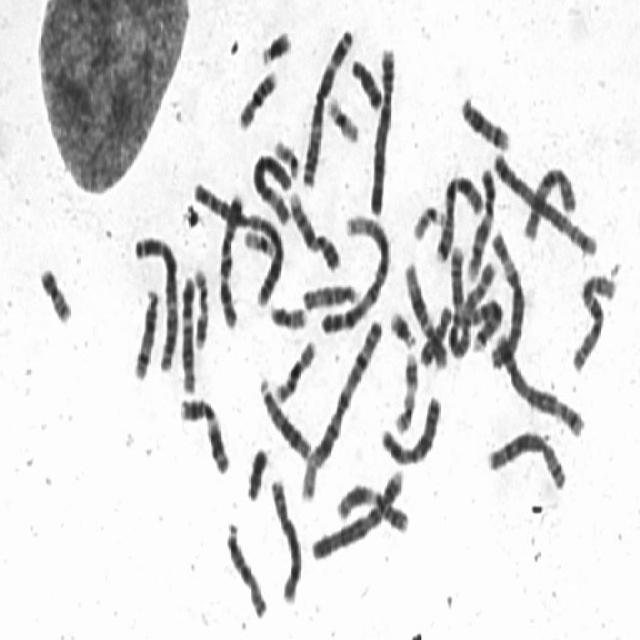A1: (297, 313, 384, 503), (317, 209, 393, 337)
A2: (188, 176, 287, 310), (444, 242, 501, 356)
A3: (299, 21, 356, 189), (129, 227, 182, 376)
B4: (310, 464, 408, 564), (365, 39, 397, 219)
B5: (488, 145, 600, 258), (490, 327, 588, 440)
C10: (568, 267, 618, 374), (520, 161, 578, 242)
C11: (175, 392, 231, 476), (334, 476, 411, 534)
C12: (400, 254, 451, 370), (178, 268, 198, 396)
C6: (486, 225, 528, 372), (248, 146, 294, 228)
C7: (431, 168, 485, 264), (214, 186, 247, 331)
C8: (484, 424, 569, 492), (266, 471, 304, 606)
C9: (285, 184, 342, 274), (462, 162, 498, 284)
D13: (255, 371, 313, 462), (450, 297, 508, 354)
D14: (456, 89, 512, 153), (130, 280, 162, 382)
D15: (222, 516, 269, 620), (299, 277, 361, 313)
E16: (271, 332, 318, 404), (235, 62, 279, 132)
E17: (391, 344, 420, 436), (190, 260, 212, 352)
E18: (416, 299, 454, 369), (348, 51, 384, 111)
F19: (322, 90, 361, 146), (241, 223, 276, 259)
F20: (35, 260, 74, 325), (266, 298, 309, 331)
G21: (258, 22, 293, 67), (386, 304, 419, 351)
G22: (409, 199, 447, 243), (271, 132, 302, 179)
X: (378, 390, 443, 468)
Y: (243, 441, 270, 503)
